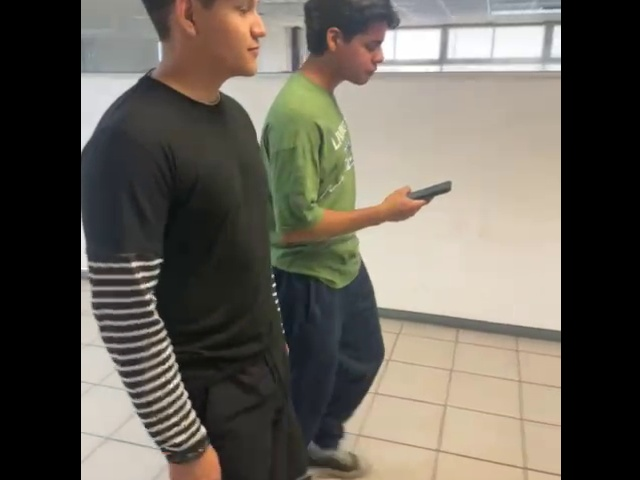mixto2: (405, 176, 459, 204)
